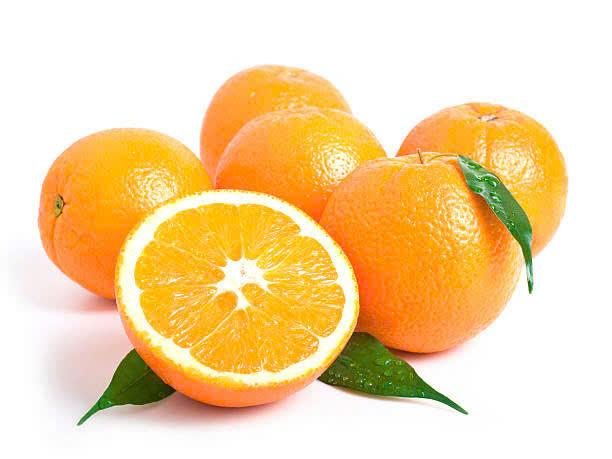orange: (141, 181, 344, 404), (332, 152, 523, 348), (409, 84, 601, 228), (38, 108, 181, 266), (226, 52, 381, 196)
